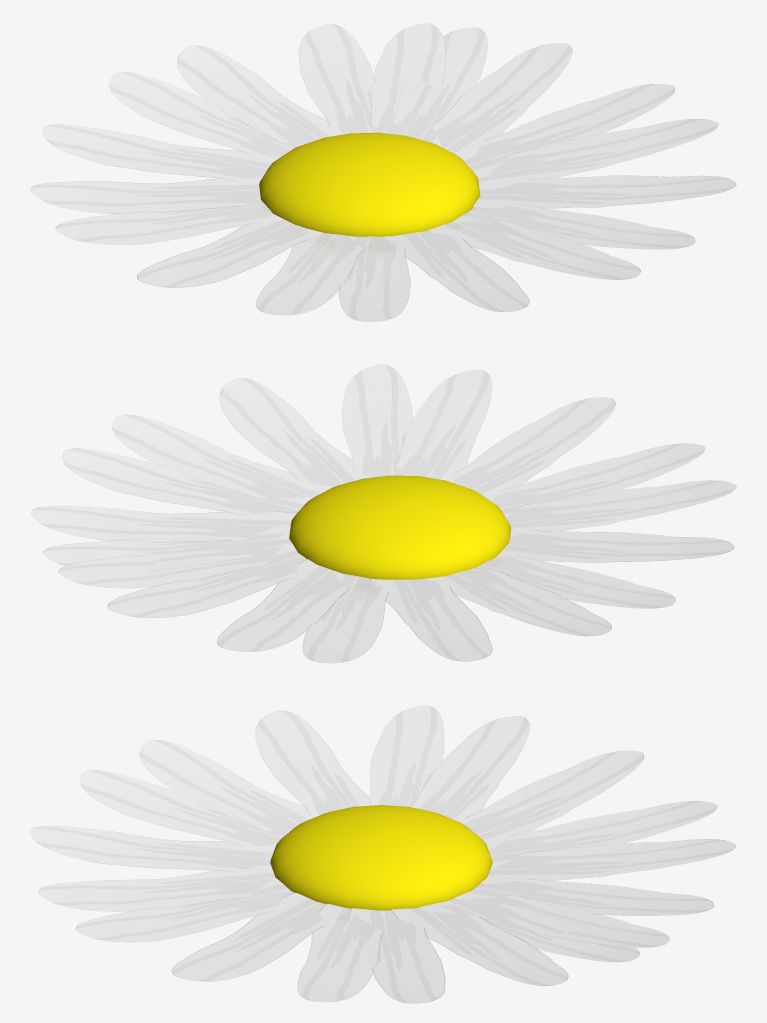
File: flower.glb
3 renders of one model, top to bottom at view 1: azimuth 30°, elevation 25°; view 2: azimuth 150°, elevation 25°; view 3: azimuth 270°, elevation 25°, orthographic.
Visible parts, largest first — view 1: pSphere1, pPlane12, pPlane13, pPlane8, pPlane26, pPlane11, pPlane14, pPlane7, pPlane2, pPlane6, pPlane25, pPlane9 (+7 smaller); view 2: pSphere1, pPlane11, pPlane26, pPlane12, pPlane25, pPlane10, pPlane6, pPlane5, pPlane24, pPlane9, pPlane13, pPlane4 (+7 smaller); view 3: pSphere1, pPlane10, pPlane24, pPlane8, pPlane9, pPlane14, pPlane25, pPlane13, pPlane4, pPlane11, pPlane12, pPlane26 (+7 smaller).
Part boxes in pixels (bbox=[...]): pSphere1: bbox=[259, 132, 480, 236]; pPlane12: bbox=[432, 43, 572, 161]; pPlane13: bbox=[177, 45, 344, 144]; pPlane8: bbox=[43, 124, 280, 181]; pPlane26: bbox=[478, 119, 718, 189]; pPlane11: bbox=[473, 175, 735, 208]; pPlane14: bbox=[30, 176, 262, 213]; pPlane7: bbox=[298, 23, 387, 134]; pPlane2: bbox=[109, 72, 303, 156]; pPlane6: bbox=[465, 84, 674, 178]; pPlane25: bbox=[427, 221, 640, 279]; pPlane9: bbox=[137, 213, 308, 287]; pSphere1: bbox=[289, 475, 510, 579]; pPlane11: bbox=[219, 378, 371, 487]; pPlane26: bbox=[112, 414, 332, 498]; pPlane12: bbox=[31, 506, 296, 542]; pPlane25: bbox=[395, 369, 492, 483]; pPlane10: bbox=[453, 397, 615, 501]; pPlane6: bbox=[63, 448, 313, 515]; pPlane5: bbox=[342, 364, 412, 477]; pPlane24: bbox=[506, 480, 736, 536]; pPlane9: bbox=[496, 530, 733, 562]; pPlane13: bbox=[217, 559, 347, 651]; pPlane4: bbox=[492, 443, 704, 517]; pSphere1: bbox=[270, 805, 492, 910]; pPlane10: bbox=[30, 826, 275, 872]; pPlane24: bbox=[139, 740, 316, 831]; pPlane8: bbox=[464, 750, 643, 850]; pPlane9: bbox=[255, 710, 370, 816]; pPlane14: bbox=[411, 716, 529, 824]; pPlane25: bbox=[38, 864, 275, 911]; pPlane13: bbox=[480, 839, 735, 884]; pPlane4: bbox=[80, 770, 289, 846]; pPlane11: bbox=[172, 892, 326, 981]; pPlane12: bbox=[391, 908, 568, 985]; pPlane26: bbox=[297, 903, 383, 1001].
Bounding box in the file's own units: 2.81 × 0.3126 × 2.81.
2 materials, 1 textured.
